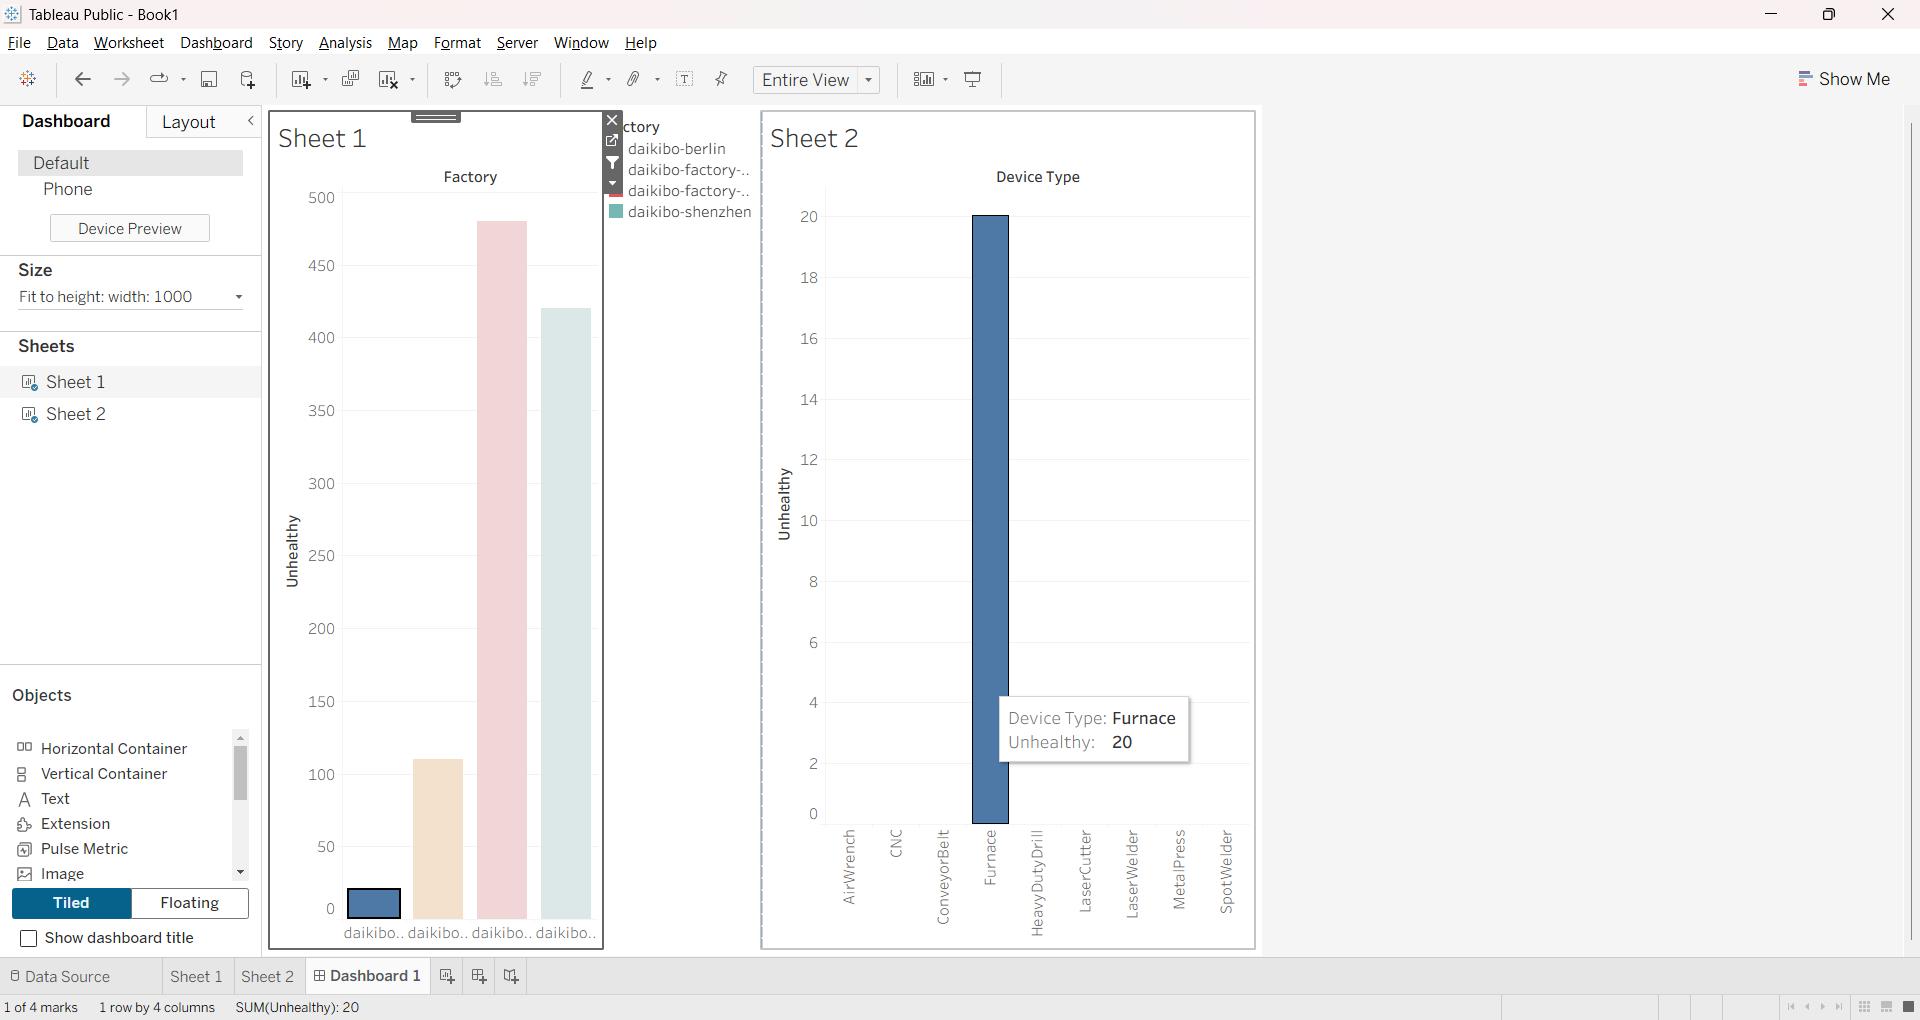

Layout of this report page (visuals, bound fields, positions):
{"tool":"tableau","page":{"name":"Dashboard 1","canvas":[650,860],"ordinal":0},"visuals":[{"type":"worksheet","title":"Sheet 1","mark":"Automatic","rows":["Calculation_0667695805407233"],"cols":["factory"],"box":[8,8.1,634,421.9]},{"type":"worksheet","title":"Sheet 2","mark":"Automatic","rows":["Calculation_0667695805407233"],"cols":["deviceType"],"box":[8,430,634,421.9]}]}

Visuals, with their boxes on the page's 650x860 design canvas (x1, y1, x2, y2). These are canvas units, not pixel positions in the 1920x1020 screenshot, which may show the page scaled, cropped or inside an application window:
"Sheet 1" worksheet: pyautogui.locateOnScreen(8, 8, 642, 430)
"Sheet 2" worksheet: pyautogui.locateOnScreen(8, 430, 642, 852)
